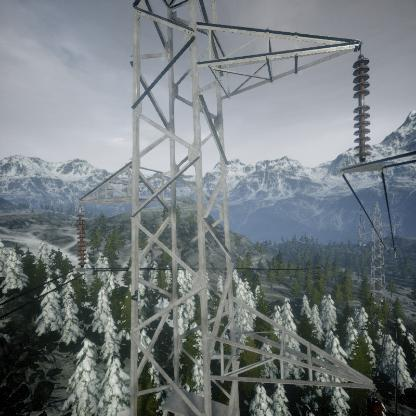insulator: (352, 55, 371, 162), (74, 211, 87, 268)
tower: (361, 200, 400, 294)
